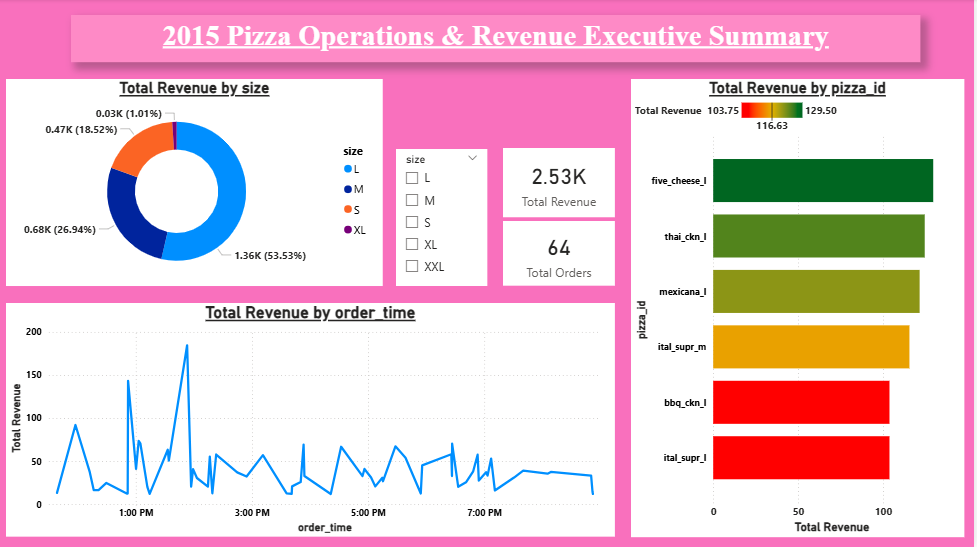

This screenshot's page, from the dashboard's own definition file:
{"tool":"powerbi","page":{"name":"Page 1","canvas":[1280,720],"ordinal":0},"visuals":[{"type":"card","fields":{"Values":["order.Total Revenue"]},"box":[660.9,195.8,147.2,90.7],"z":0},{"type":"lineChart","fields":{"Y":["order.Total Revenue"],"Category":["order.order_time"]},"box":[7.9,399.4,800.1,307.4],"z":2},{"type":"clusteredBarChart","fields":{"Category":["order.pizza_id"],"Y":["order.Total Revenue"]},"box":[829.1,105.1,437.5,601.8],"z":4},{"type":"donutChart","fields":{"Category":["pizzas.size"],"Y":["order.Total Revenue"]},"box":[0,105.1,503.2,272],"z":5},{"type":"card","fields":{"Values":["order.Total Orders"]},"box":[660.9,291.7,147.2,85.4],"z":6},{"type":"slicer","fields":{"Values":["pizzas.size"]},"box":[520.3,197.1,119.6,180],"z":7},{"type":"textbox","box":[93.6,20.6,1116.2,61.9],"z":8}]}

Visuals, with their boxes in screenshot pixels (x1, y1, x2, y2), scaled from the page's 1280x720 canvas onto the 977x547 screenshot:
card - order.Total Revenue: 504/149/617/218
lineChart - order.Total Revenue x order.order_time: 6/303/617/537
clusteredBarChart - order.pizza_id x order.Total Revenue: 633/80/967/537
donutChart - pizzas.size x order.Total Revenue: 0/80/384/286
card - order.Total Orders: 504/222/617/286
slicer - pizzas.size: 397/150/488/286
textbox: 71/16/923/63
